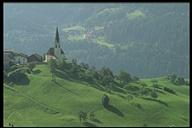field: (7, 86, 188, 125)
house: (43, 25, 68, 66), (12, 51, 44, 64)
mountain: (65, 6, 190, 75)
